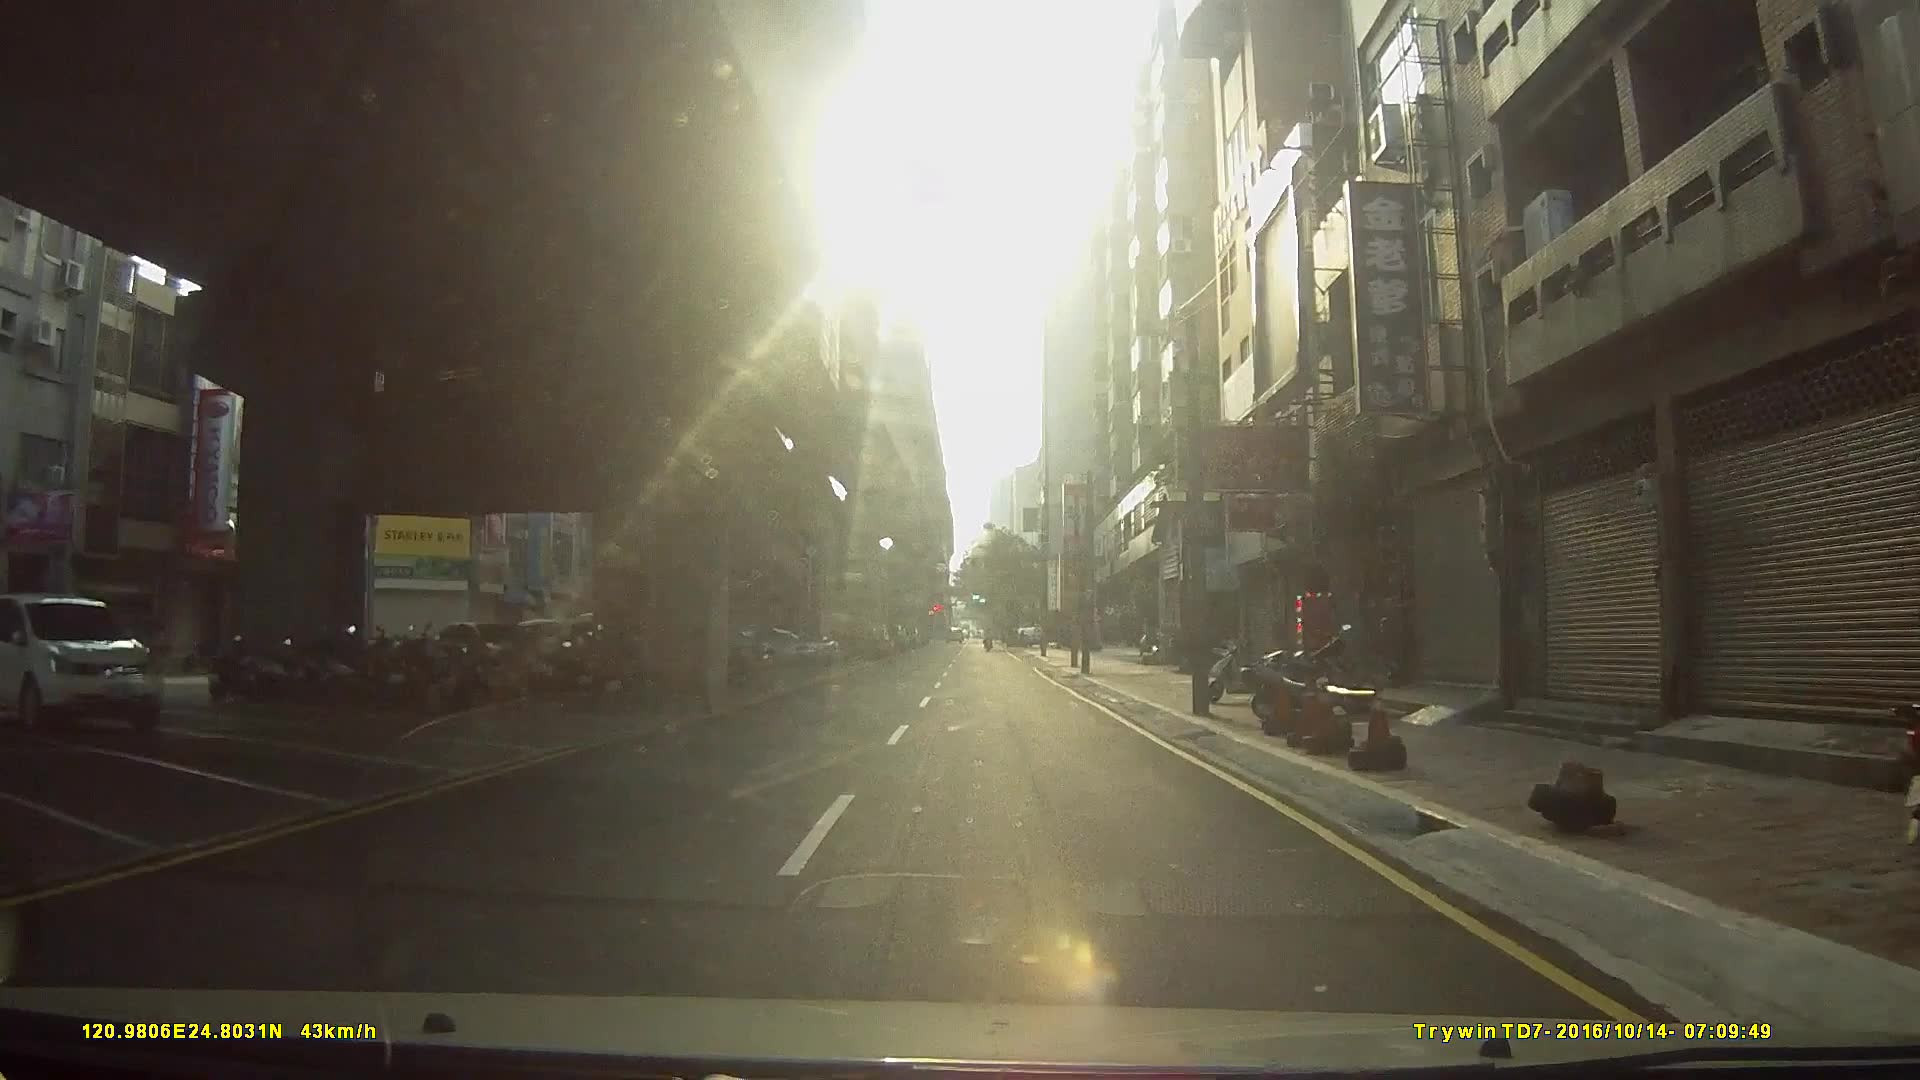vehicle: (3, 592, 160, 735)
